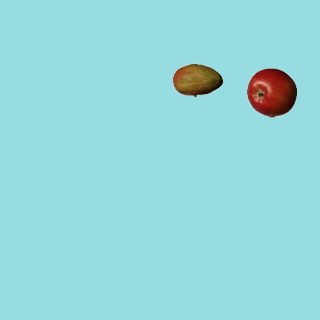Apple Braeburn: (246, 67, 296, 117)
Papaya: (172, 55, 222, 105)
